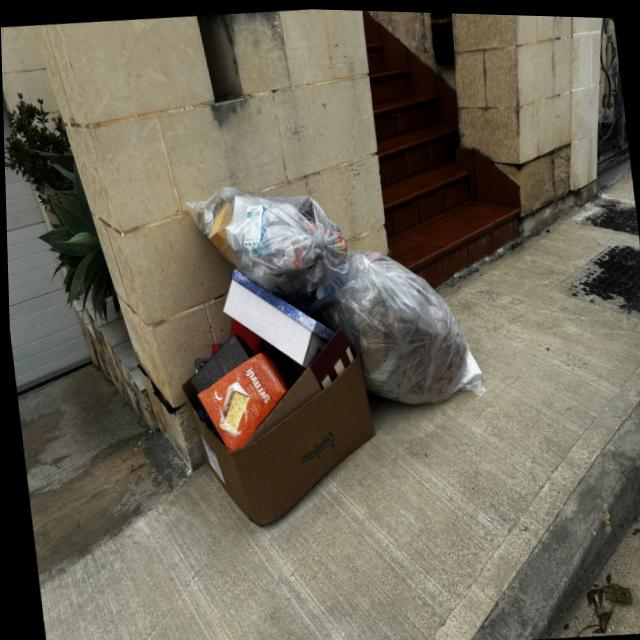Others Waste: (179, 266, 372, 526)
Recyclable Material -Grey Bags-: (182, 184, 483, 402)
